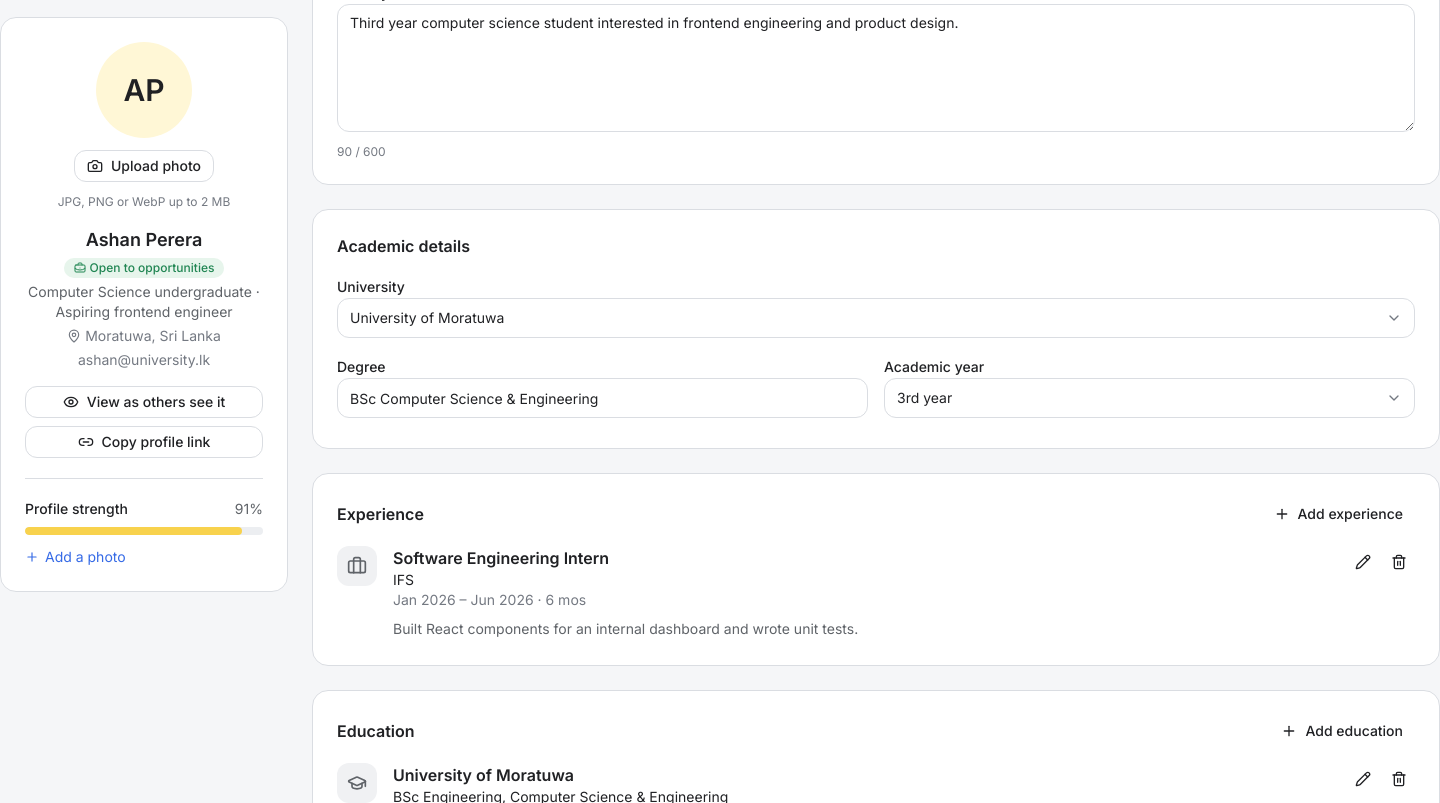
Scenario: StudentProfileForm › only enables saving once something changes
(page scrolled)
Replace the text in the field labelled "Degree" with "BSc IT" at (602,398), box [337,378,868,418]
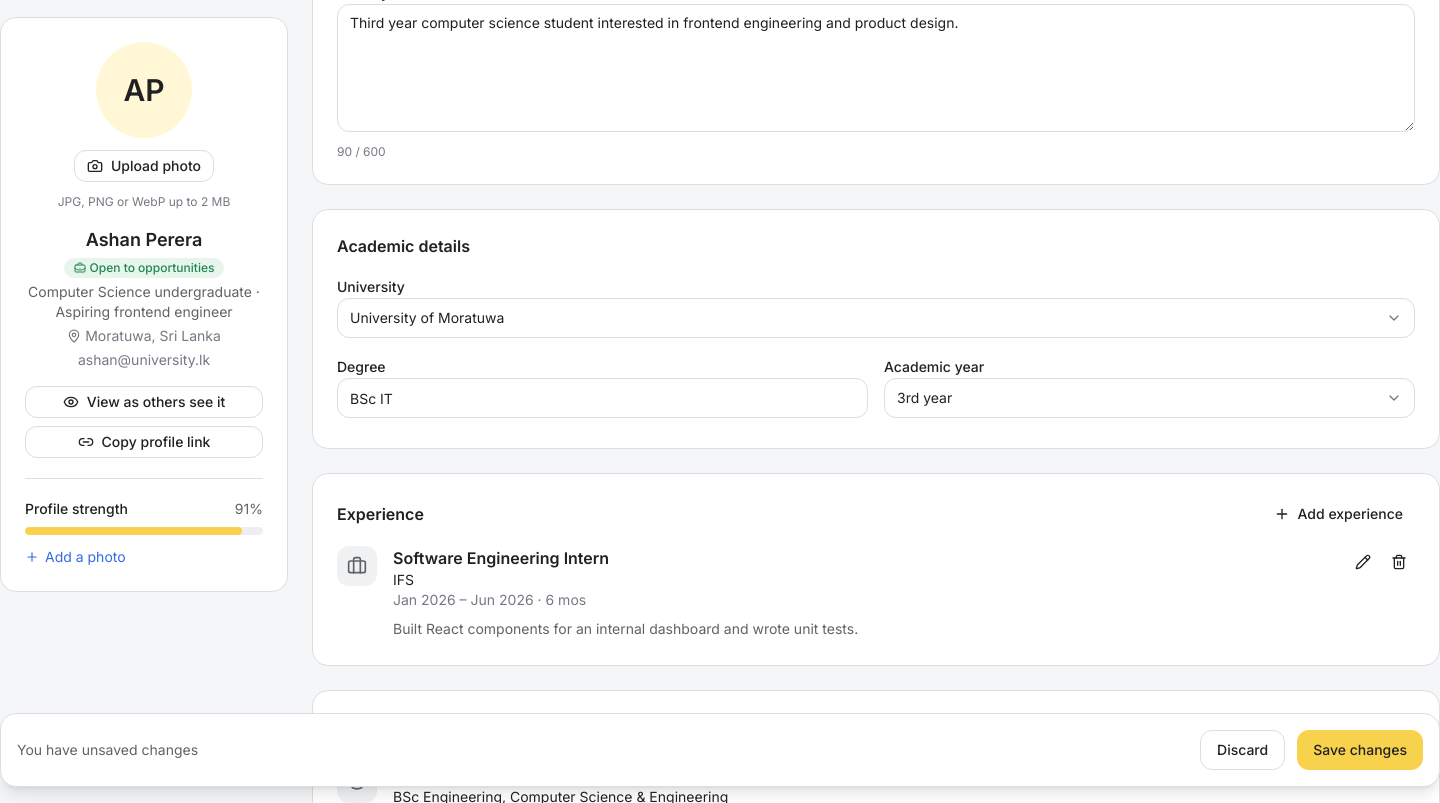
Now the button "Save changes" is enabled, box [1297,730,1423,770]
